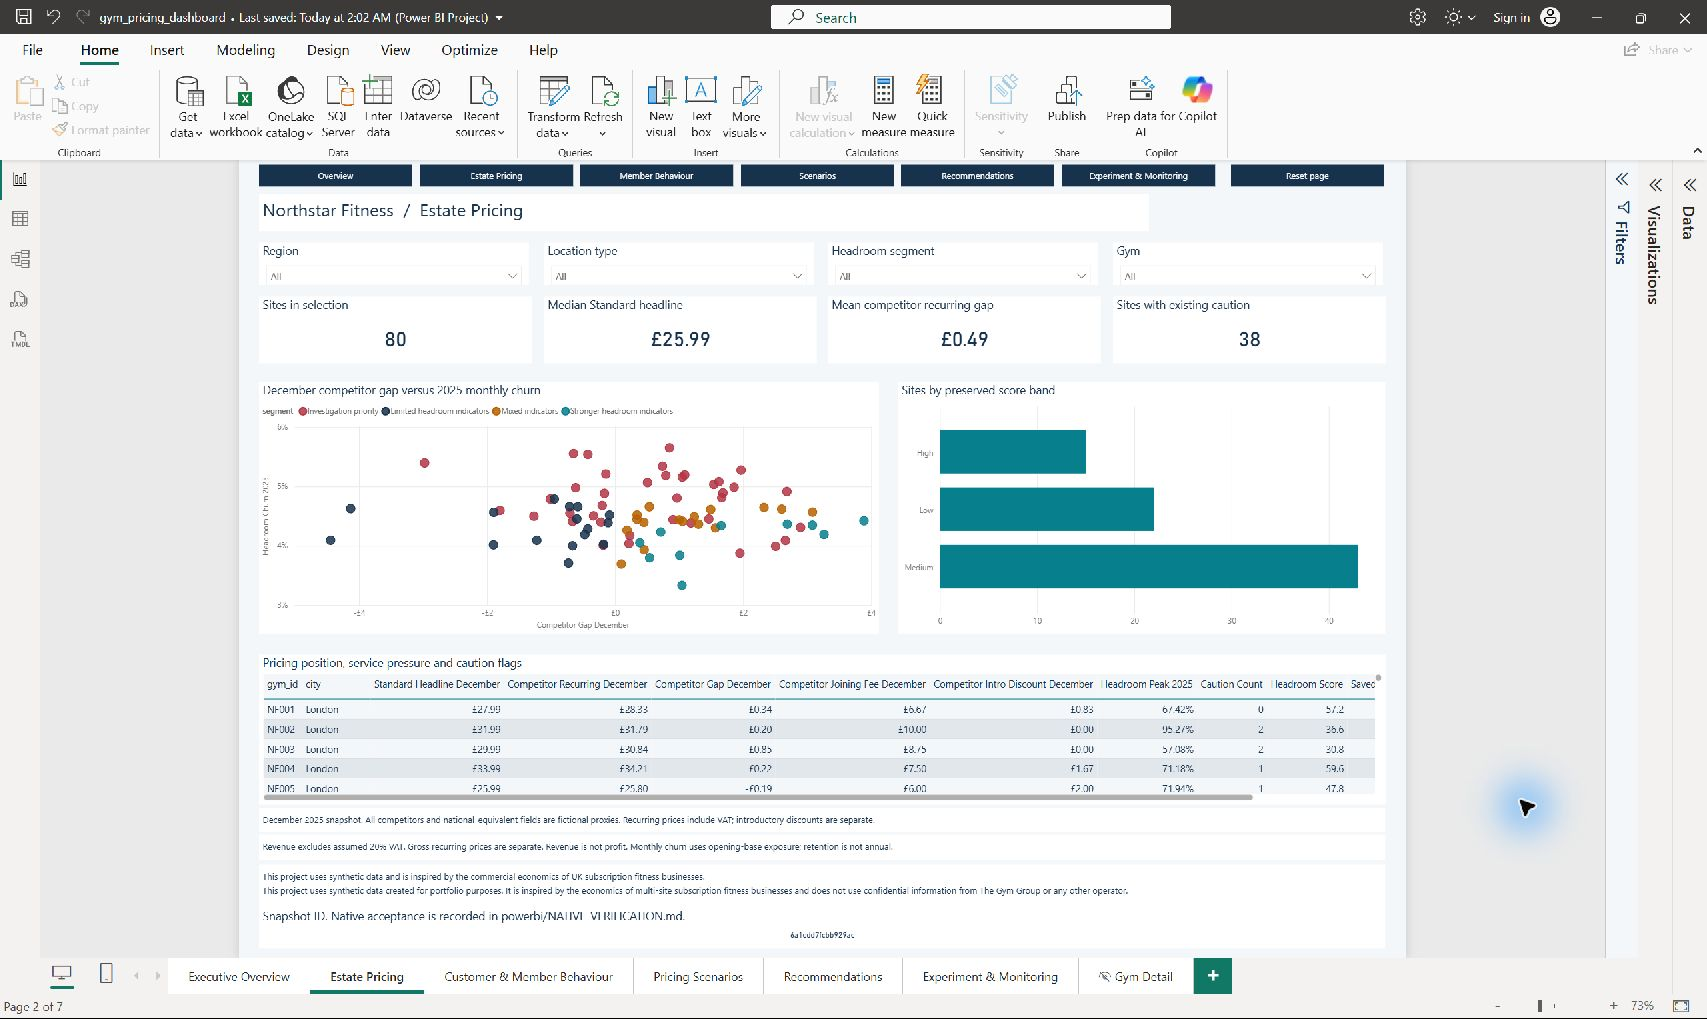

This screenshot's page, from the dashboard's own definition file:
{"tool":"powerbi","page":{"name":"Estate Pricing","canvas":[1600,1095],"ordinal":1},"visuals":[{"type":"card","title":"Sites in selection","fields":{"Values":["CommercialMeasures.Gyms In Selection"]},"box":[28,188,374,91],"z":0},{"type":"card","title":"Median Standard headline","fields":{"Values":["CommercialMeasures.Median Standard Price"]},"box":[418,188,374,91],"z":1},{"type":"card","title":"Mean competitor recurring gap","fields":{"Values":["CommercialMeasures.Average Competitor Gap"]},"box":[808,188,374,91],"z":2},{"type":"card","title":"Sites with existing caution","fields":{"Values":["CommercialMeasures.Caution Sites"]},"box":[1198,188,374,91],"z":3},{"type":"scatterChart","title":"December competitor gap versus 2025 monthly churn","fields":{"Category":["DimGym.gym_id"],"Series":["DimGym.segment"],"X":["CommercialMeasures.Competitor Gap December"],"Y":["CommercialMeasures.Headroom Churn 2025"]},"box":[28,305,850,345],"z":4},{"type":"barChart","title":"Sites by preserved score band","fields":{"Category":["DimGym.band"],"Y":["CommercialMeasures.Gyms In Selection"]},"box":[904,305,668,345],"z":5},{"type":"tableEx","title":"Pricing position, service pressure and caution flags","fields":{"Values":["DimGym.gym_id","DimGym.city","CommercialMeasures.Standard Headline December","CommercialMeasures.Competitor Recurring December","CommercialMeasures.Competitor Gap December","CommercialMeasures.Competitor Joining Fee December","CommercialMeasures.Competitor Intro Discount December","CommercialMeasures.Headroom Peak 2025","CommercialMeasures.Caution Count","CommercialMeasures.Headroom Score","CommercialMeasures.Saved Estate Rank","CommercialMeasures.Headroom Band"]},"box":[28,678,1544,205],"z":6},{"type":"slicer","title":"Region","fields":{"Values":["DimGym.region"]},"box":[28,114,370,58],"z":7},{"type":"slicer","title":"Location type","fields":{"Values":["DimGym.location_type"]},"box":[418,114,370,58],"z":8},{"type":"slicer","title":"Headroom segment","fields":{"Values":["DimGym.segment"]},"box":[808,114,370,58],"z":9},{"type":"slicer","title":"Gym","fields":{"Values":["DimGym.gym_id"]},"box":[1198,114,370,58],"z":10},{"type":"textbox","box":[28,47,1220,51],"z":11},{"type":"textbox","box":[28,889,1544,33],"z":12},{"type":"card","title":"Snapshot ID. Native acceptance is recorded in powerbi/NATIVE_VERIFICATION.md.","fields":{"Values":["CommercialMeasures.Snapshot Version"]},"box":[28,1026,1544,56],"z":13},{"type":"textbox","box":[28,925,1544,35],"z":14},{"type":"textbox","box":[28,966,1544,62],"z":15},{"type":"actionButton","title":"Overview","box":[28,7,210,30],"z":16},{"type":"actionButton","title":"Estate Pricing","box":[248,7,210,30],"z":17},{"type":"actionButton","title":"Member Behaviour","box":[468,7,210,30],"z":18},{"type":"actionButton","title":"Scenarios","box":[688,7,210,30],"z":19},{"type":"actionButton","title":"Recommendations","box":[908,7,210,30],"z":20},{"type":"actionButton","title":"Experiment & Monitoring","box":[1128,7,210,30],"z":21},{"type":"actionButton","title":"Reset page","box":[1360,7,210,30],"z":22}]}

Visuals, with their boxes on the page's 1600x1095 design canvas (x1, y1, x2, y2). These are canvas units, not pixel positions in the 1707x1019 screenshot, which may show the page scaled, cropped or inside an application window:
"Sites in selection" card: bbox=(28, 188, 402, 279)
"Median Standard headline" card: bbox=(418, 188, 792, 279)
"Mean competitor recurring gap" card: bbox=(808, 188, 1182, 279)
"Sites with existing caution" card: bbox=(1198, 188, 1572, 279)
"December competitor gap versus 2025 monthly churn" scatterChart: bbox=(28, 305, 878, 650)
"Sites by preserved score band" barChart: bbox=(904, 305, 1572, 650)
"Pricing position, service pressure and caution flags" tableEx: bbox=(28, 678, 1572, 883)
"Region" slicer: bbox=(28, 114, 398, 172)
"Location type" slicer: bbox=(418, 114, 788, 172)
"Headroom segment" slicer: bbox=(808, 114, 1178, 172)
"Gym" slicer: bbox=(1198, 114, 1568, 172)
textbox: bbox=(28, 47, 1248, 98)
textbox: bbox=(28, 889, 1572, 922)
"Snapshot ID. Native acceptance is recorded in powerbi/NATIVE_VERIFICATION.md." card: bbox=(28, 1026, 1572, 1082)
textbox: bbox=(28, 925, 1572, 960)
textbox: bbox=(28, 966, 1572, 1028)
"Overview" actionButton: bbox=(28, 7, 238, 37)
"Estate Pricing" actionButton: bbox=(248, 7, 458, 37)
"Member Behaviour" actionButton: bbox=(468, 7, 678, 37)
"Scenarios" actionButton: bbox=(688, 7, 898, 37)
"Recommendations" actionButton: bbox=(908, 7, 1118, 37)
"Experiment & Monitoring" actionButton: bbox=(1128, 7, 1338, 37)
"Reset page" actionButton: bbox=(1360, 7, 1570, 37)
